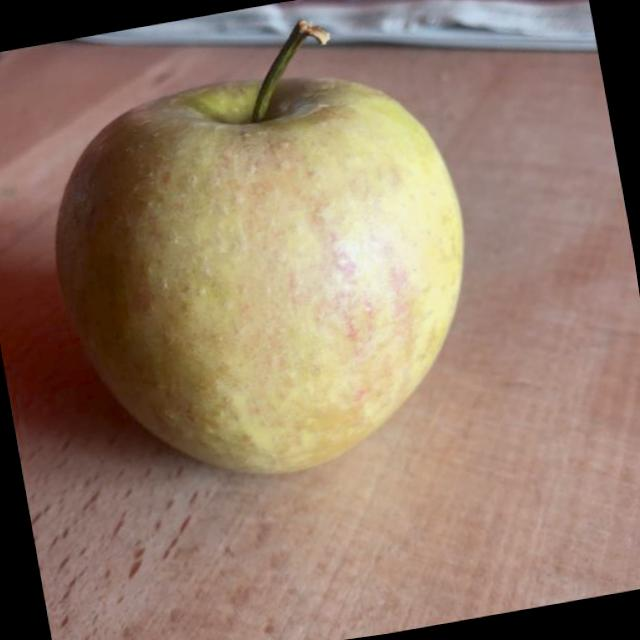Apple: (9, 0, 510, 519)
